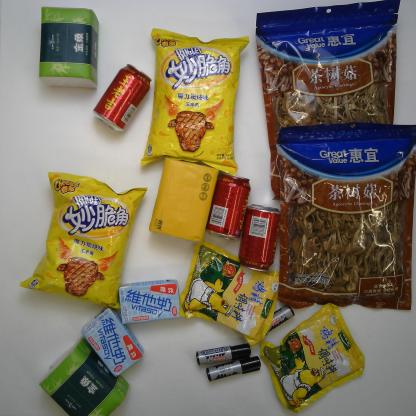Dried Food: (255, 0, 405, 201), (276, 122, 415, 311)
Drink: (93, 65, 151, 129), (238, 201, 279, 272), (210, 170, 252, 236)
Milk: (80, 310, 144, 379), (116, 279, 184, 328)
Puffed Food: (18, 171, 149, 308), (144, 27, 248, 179)
Seasoner: (258, 302, 367, 413), (182, 239, 280, 348)
Stationery: (196, 342, 251, 368), (209, 356, 260, 383), (254, 304, 294, 333)
Tissue: (41, 337, 130, 413), (147, 158, 222, 248), (36, 4, 104, 90)
